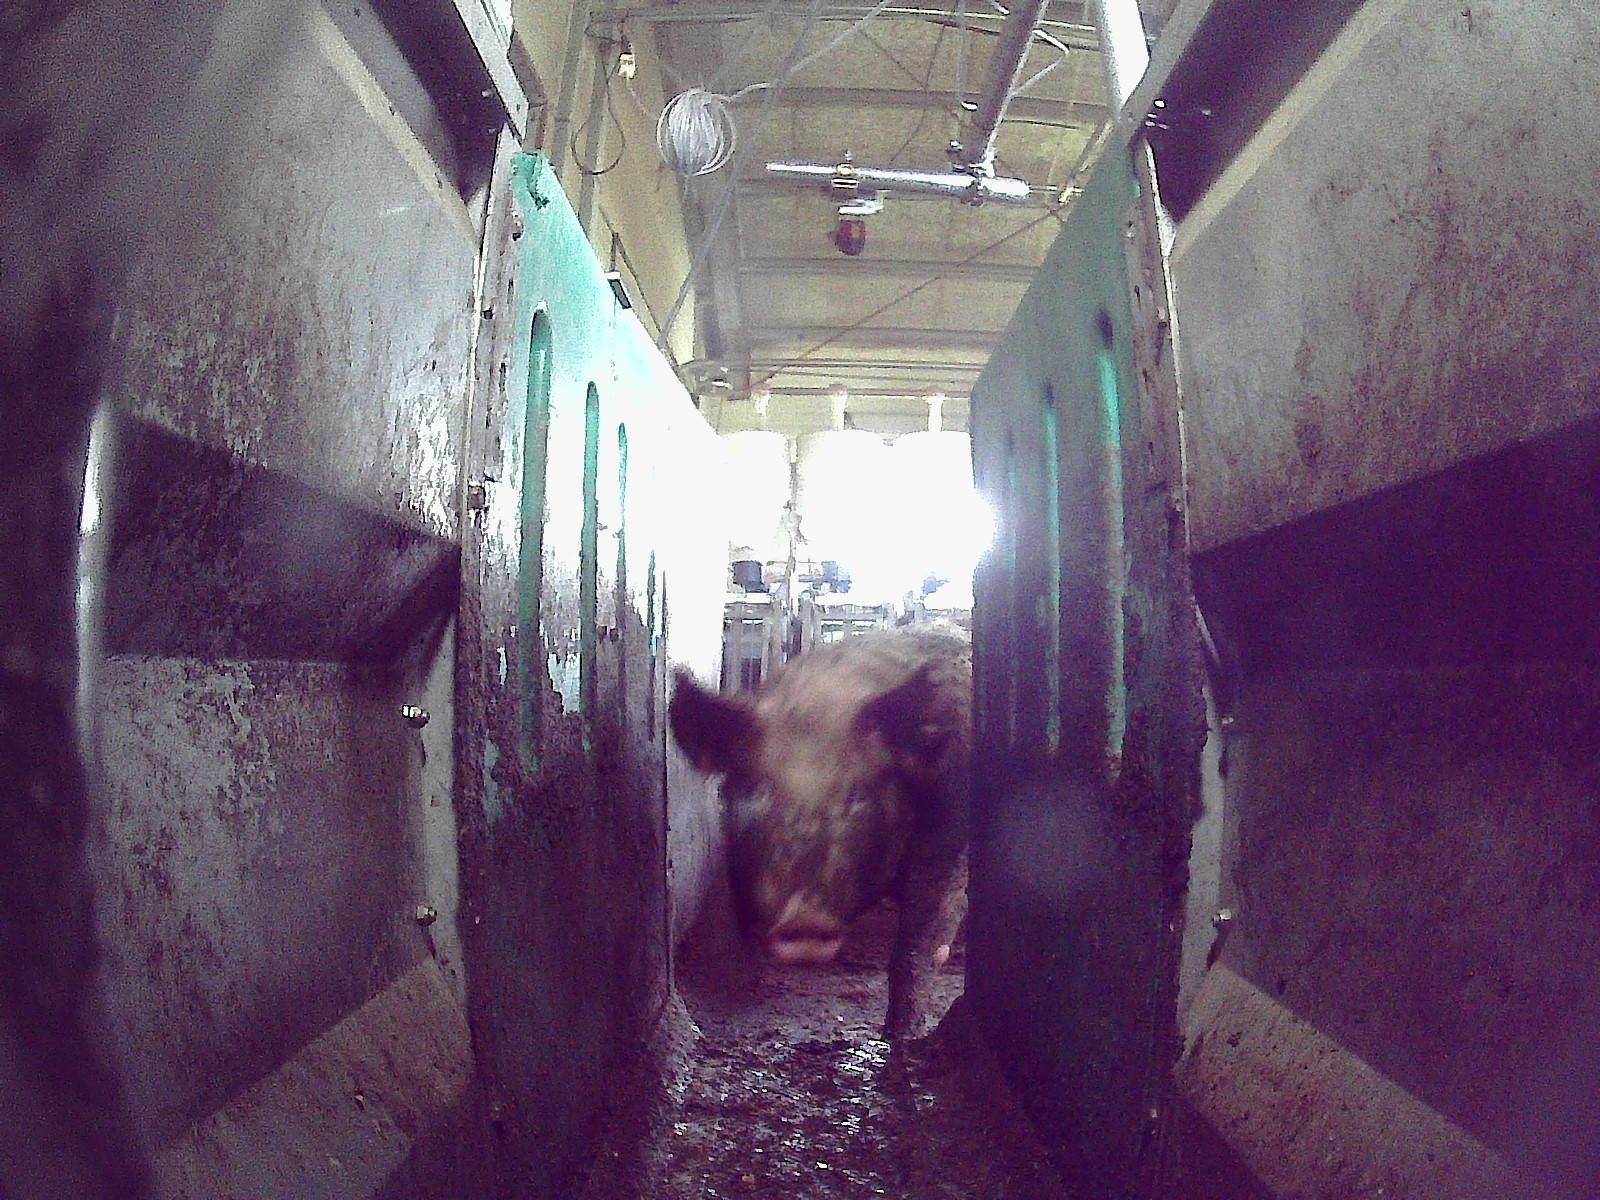Face: (722, 727, 902, 960)
